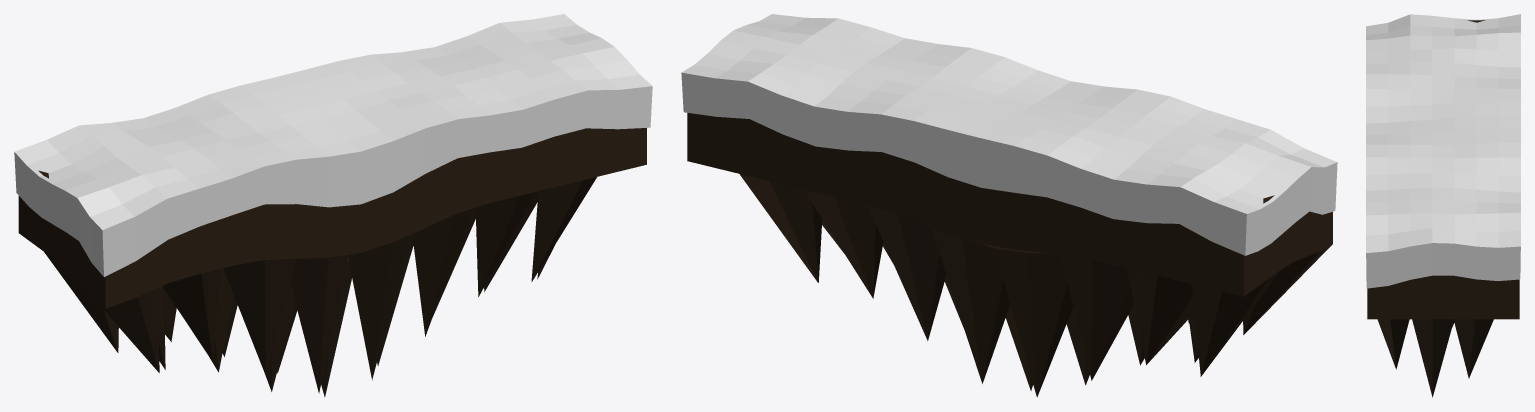
Rendered from Plataforma 1.fbx.
3 views of the same model, side by side, from view 1: azimuth 30°, elevation 25°; view 2: azimuth 150°, elevation 25°; view 3: azimuth 270°, elevation 25° (orthographic). The views are drawn at different scales.
Visible parts, largest first — view 1: Cube.001; view 2: Cube.001; view 3: Cube.001.
Boxes of the visible parts, box(x1,y1,x2,y2) form: Cube.001: box(14, 14, 652, 397); Cube.001: box(681, 14, 1337, 397); Cube.001: box(1366, 14, 1520, 397).
Size of the model in its own units: 865 by 427 by 240.
